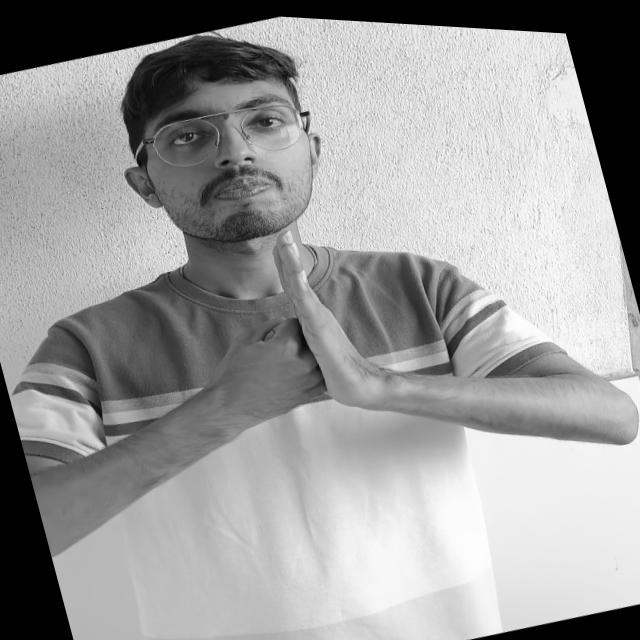Well Done: (72, 161, 554, 532)
